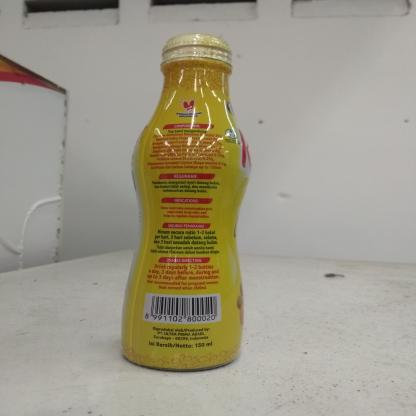bottle: (113, 29, 255, 372)
